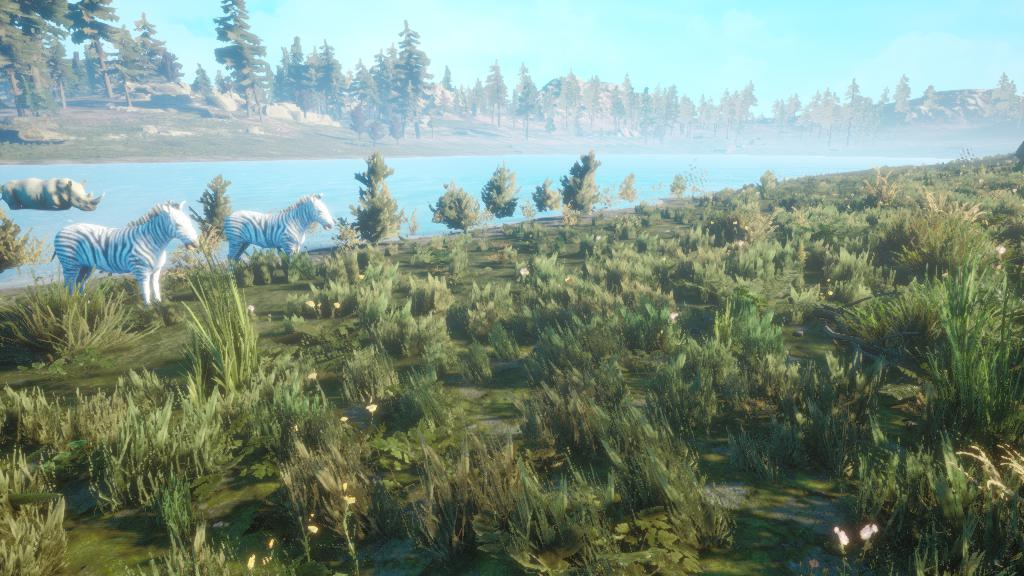rhinoceros: (0, 168, 113, 224)
zebra: (50, 199, 207, 307), (208, 186, 342, 279)
